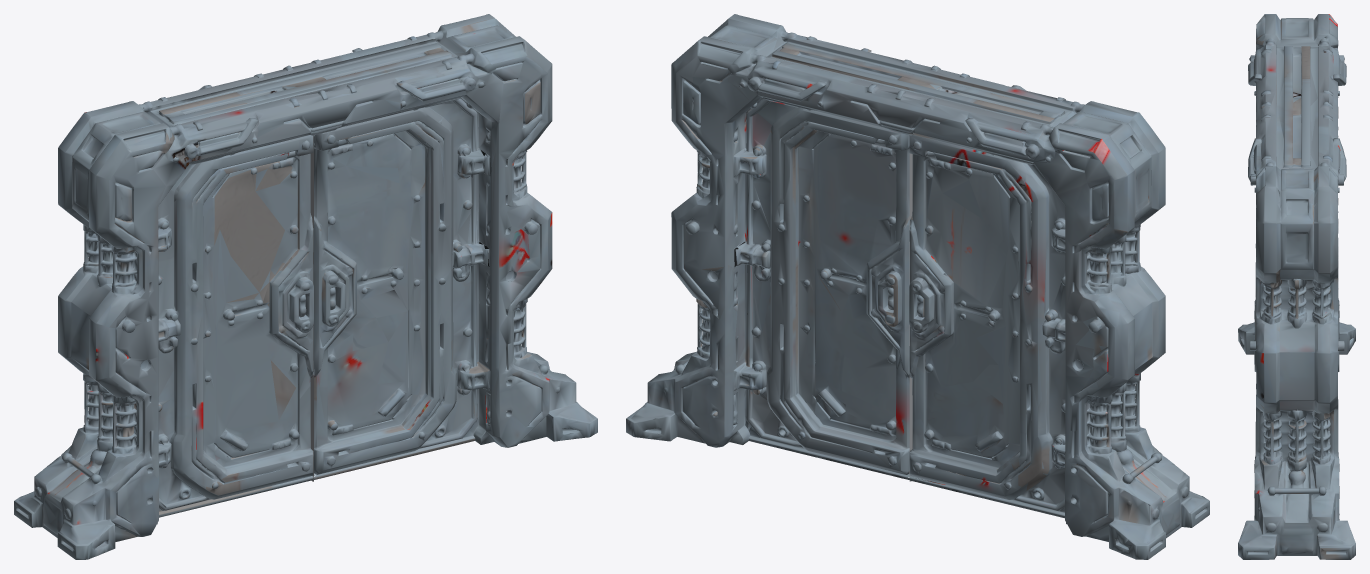
Rendered from lab door 2.fbx.
3 views of the same model, side by side, from view 1: azimuth 30°, elevation 25°; view 2: azimuth 150°, elevation 25°; view 3: azimuth 270°, elevation 25° (orthographic). The views are drawn at different scales.
Visible parts, largest first — view 1: texture_pbr_v128, texture_pbr_v128.002, texture_pbr_v128.001; view 2: texture_pbr_v128, texture_pbr_v128.002, texture_pbr_v128.001; view 3: texture_pbr_v128.
Part boxes in pixels (x1,y1,x2,y2): texture_pbr_v128: (14,14,597,559); texture_pbr_v128.002: (310,99,489,481); texture_pbr_v128.001: (158,135,315,517); texture_pbr_v128: (626,14,1209,559); texture_pbr_v128.002: (734,98,912,481); texture_pbr_v128.001: (908,135,1065,518); texture_pbr_v128: (1238,14,1355,559).
Size of the model in its own units: 95.88 by 70.03 by 21.42.
